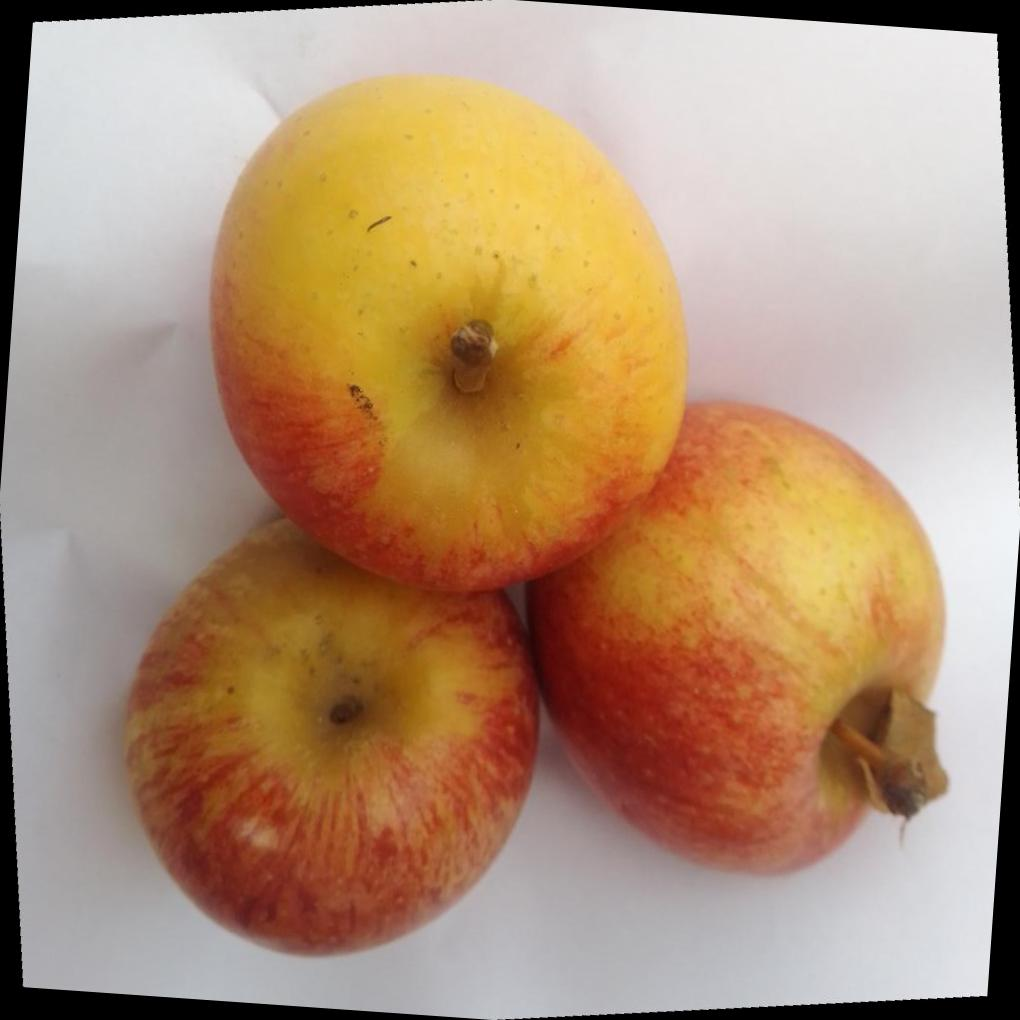FreshGuava: (124, 70, 951, 960)
